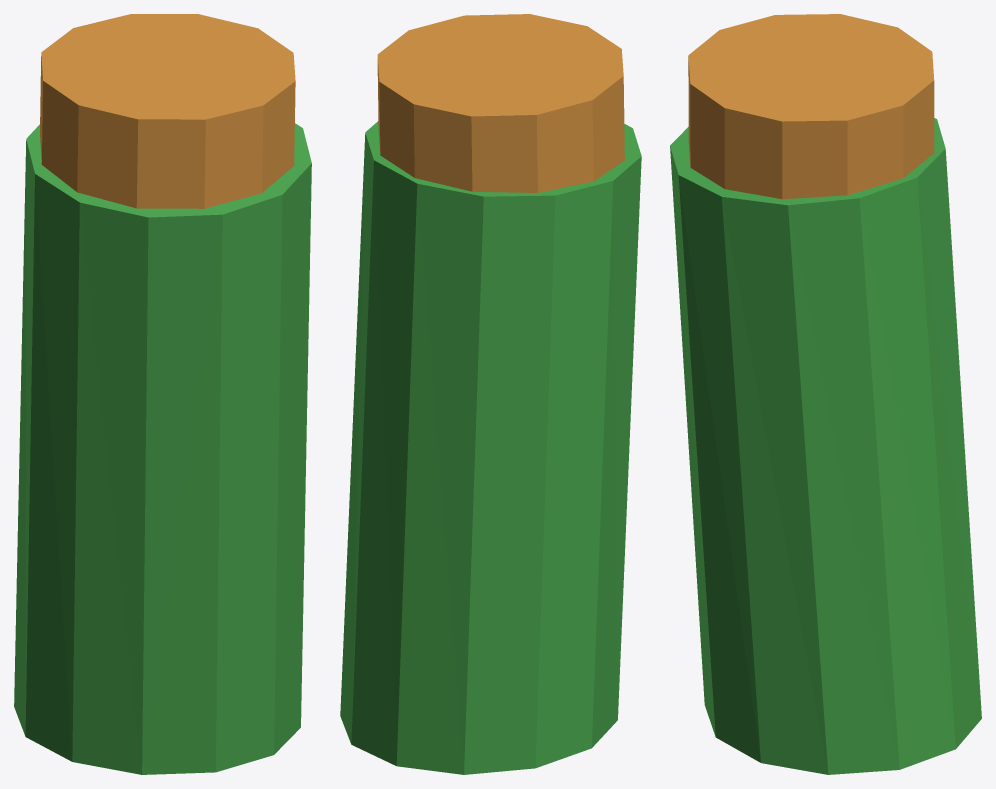
The model's file is SPotion_Sam.fbx.
3 views of the same model, side by side, from view 1: azimuth 30°, elevation 25°; view 2: azimuth 150°, elevation 25°; view 3: azimuth 270°, elevation 25° (orthographic). The views are drawn at different scales.
Visible parts, largest first — view 1: mesh_2057085129, mesh_450593120; view 2: mesh_2057085129, mesh_450593120; view 3: mesh_2057085129, mesh_450593120.
Boxes of the visible parts, box(x1,y1,x2,y2) form: mesh_2057085129: box(14, 123, 311, 774); mesh_450593120: box(40, 14, 295, 208); mesh_2057085129: box(340, 121, 641, 774); mesh_450593120: box(377, 14, 624, 192); mesh_2057085129: box(670, 118, 981, 774); mesh_450593120: box(688, 14, 934, 199).
Bounding box in the file's own units: 8.15 × 20.5 × 8.95.
